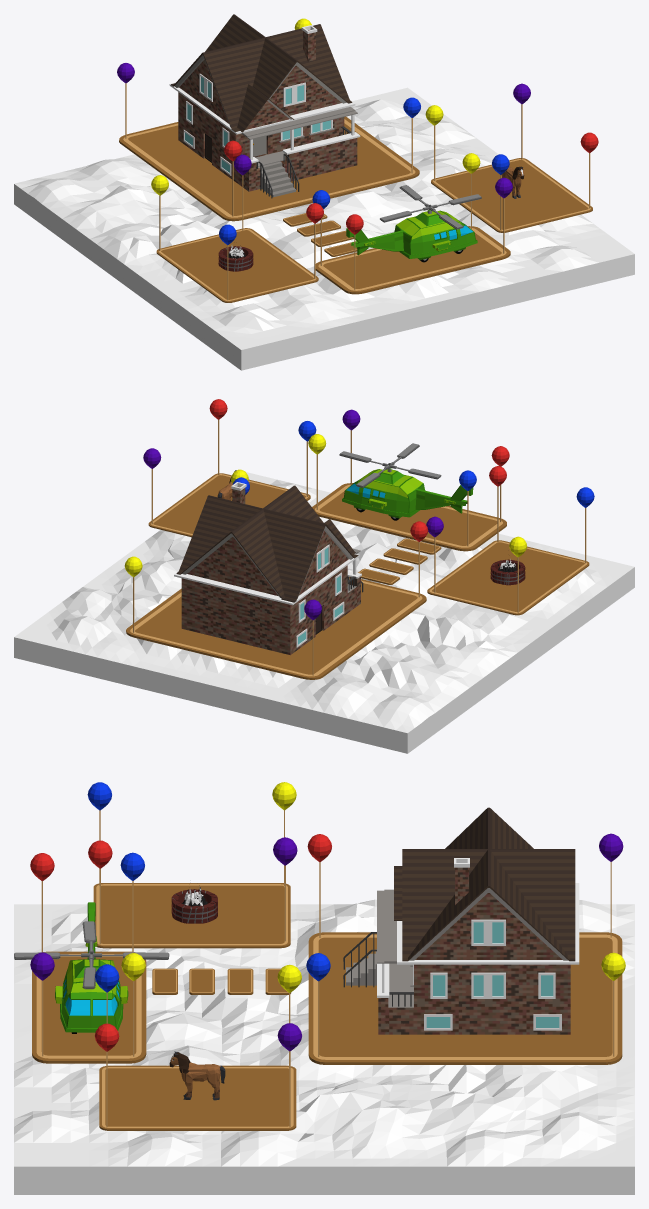
3 renders of one model, top to bottom at view 1: azimuth 30°, elevation 25°; view 2: azimuth 150°, elevation 25°; view 3: azimuth 270°, elevation 25°, orthographic. The views are drawn at different scales.
Parts seen in each view (by area): view 1: Cube.013, Cube.117, VEHICLES_HELICOPTER, OBJRANDOM_CAMPFIRE; view 2: Cube.013, Cube.117, VEHICLES_HELICOPTER, OBJRANDOM_CAMPFIRE; view 3: Cube.013, Cube.117, VEHICLES_HELICOPTER, OBJRANDOM_CAMPFIRE, ANIMAL_CABALLO.
Part boxes in pixels (x1,y1,x2,y2): Cube.013: [14, 18, 634, 370]; Cube.117: [169, 14, 360, 198]; VEHICLES_HELICOPTER: [346, 185, 481, 262]; OBJRANDOM_CAMPFIRE: [218, 244, 253, 271]; Cube.013: [14, 399, 634, 753]; Cube.117: [174, 482, 363, 655]; VEHICLES_HELICOPTER: [339, 443, 473, 520]; OBJRANDOM_CAMPFIRE: [490, 559, 525, 585]; Cube.013: [14, 782, 634, 1194]; Cube.117: [343, 807, 579, 1034]; VEHICLES_HELICOPTER: [14, 902, 169, 1033]; OBJRANDOM_CAMPFIRE: [171, 885, 217, 923]; ANIMAL_CABALLO: [169, 1051, 225, 1100].
Size of the model in its own units: 4000 by 1789 by 4001.
36 materials, 2 textured.
